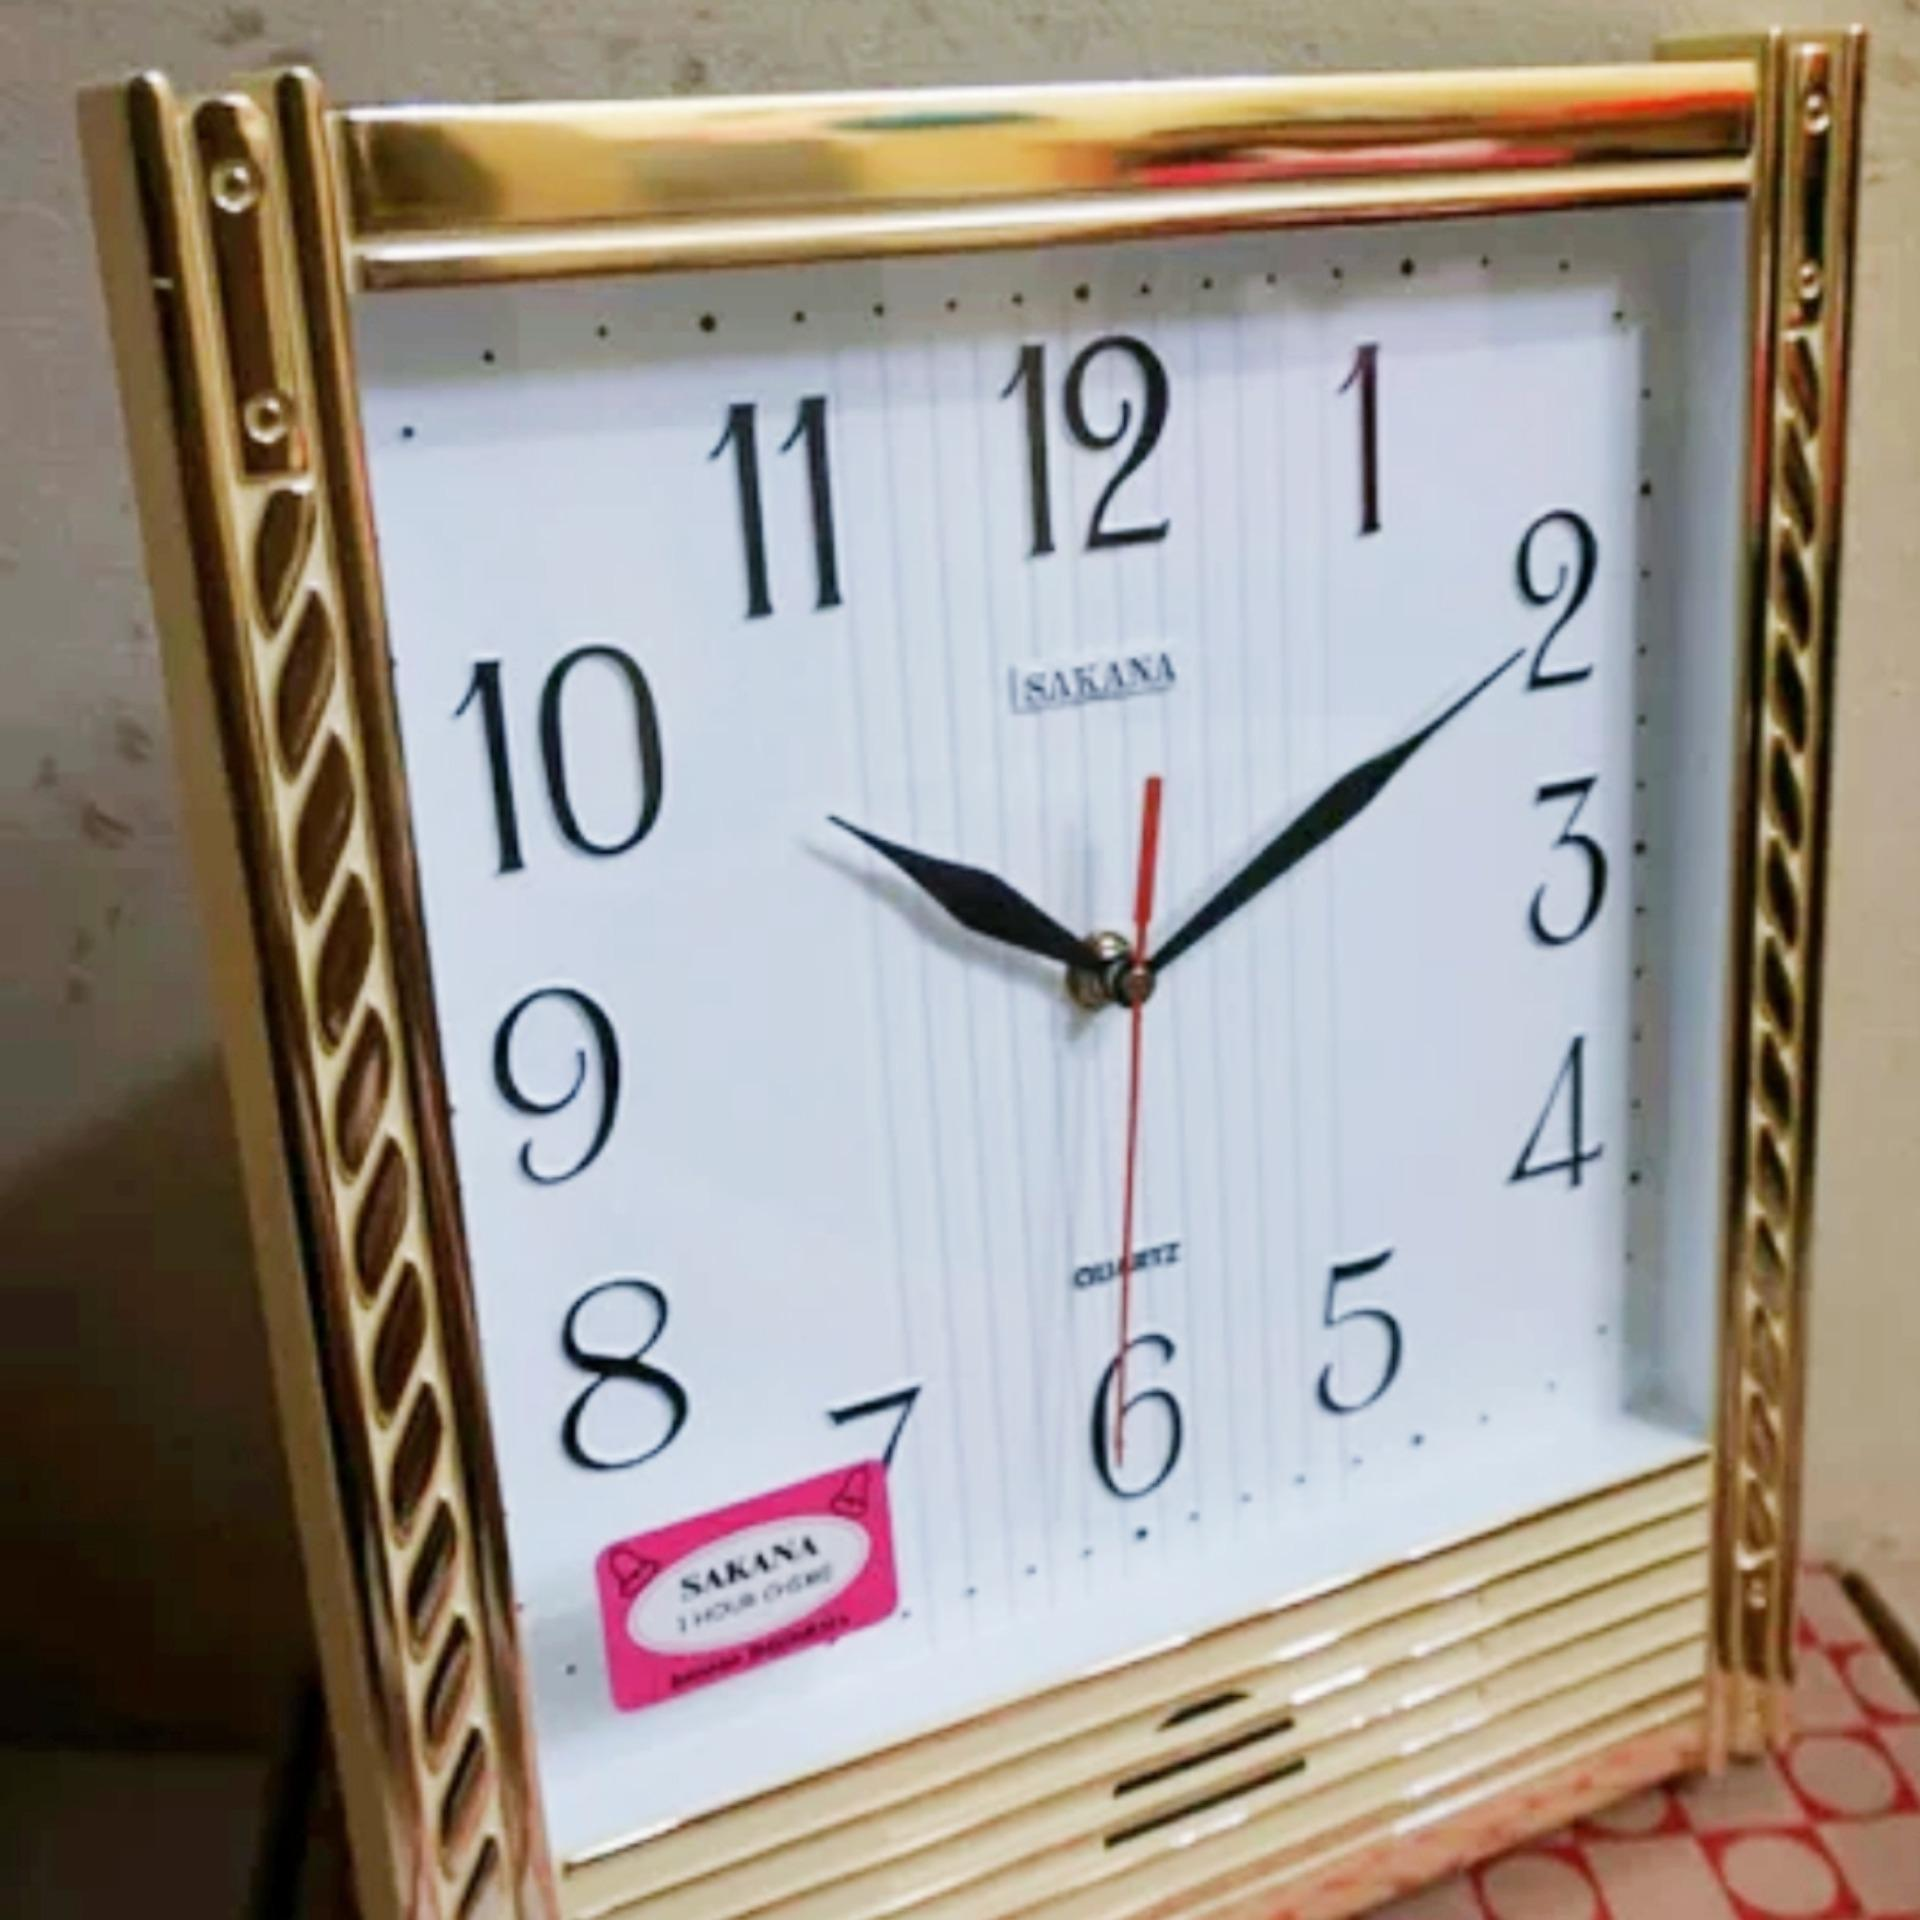jam dinding: (155, 86, 1829, 1742)
